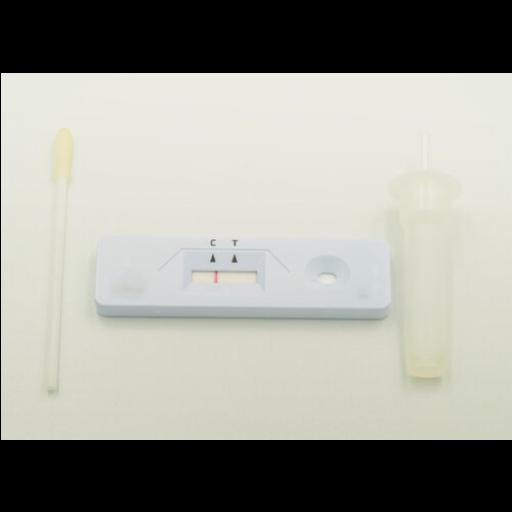Neg: (96, 238, 388, 306)
